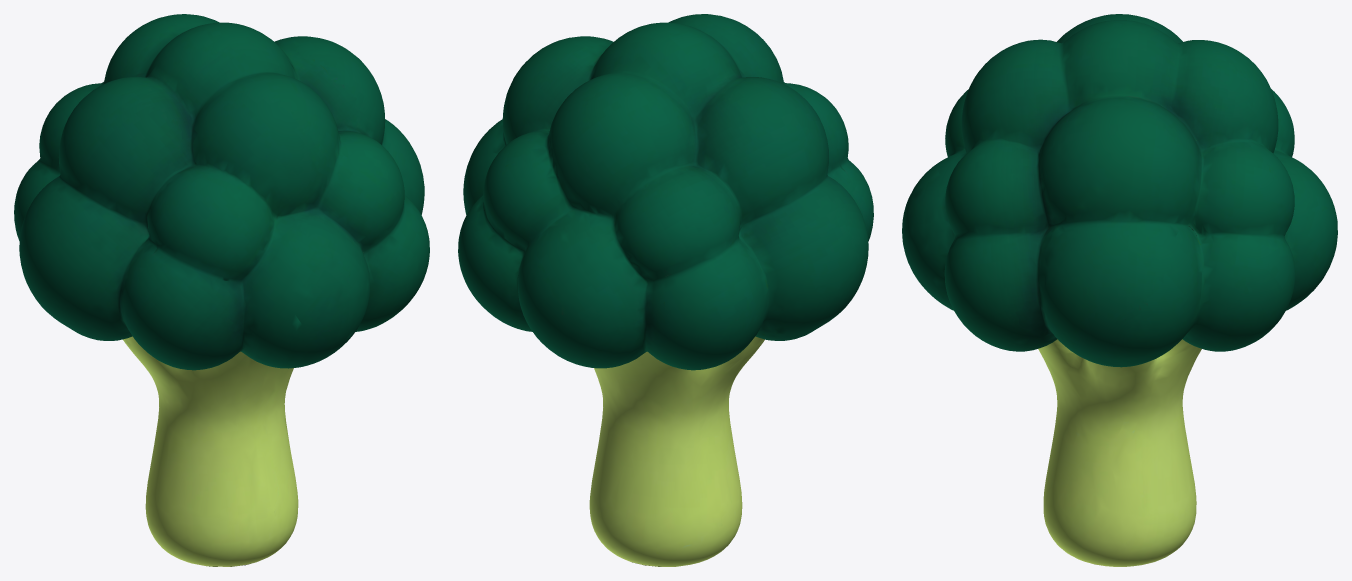
Rendered from broccoli.glb.
3 renders of one model, left to right at view 1: azimuth 30°, elevation 25°; view 2: azimuth 150°, elevation 25°; view 3: azimuth 270°, elevation 25°, orthographic.
Parts seen in each view (by area): view 1: model; view 2: model; view 3: model.
Part boxes in pixels (box(x1,y1,x2,y2)): model: box(14, 14, 429, 566); model: box(458, 14, 873, 566); model: box(902, 14, 1337, 566).
Bounding box in the file's own units: 1.48 × 1.9 × 1.45.
Materials: 1 (1 with a texture image).
